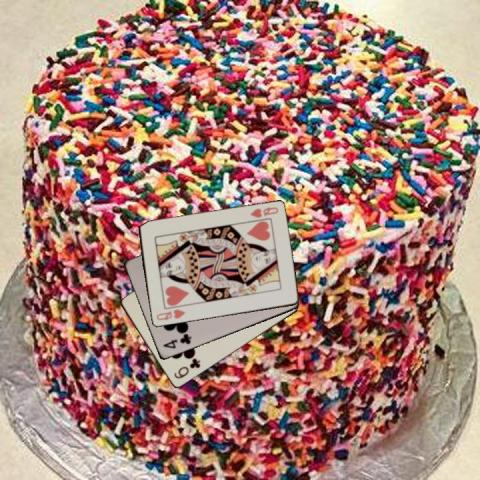4c: (160, 331, 193, 350)
6c: (171, 356, 201, 381)
Qh: (154, 307, 188, 322), (247, 204, 279, 219)
